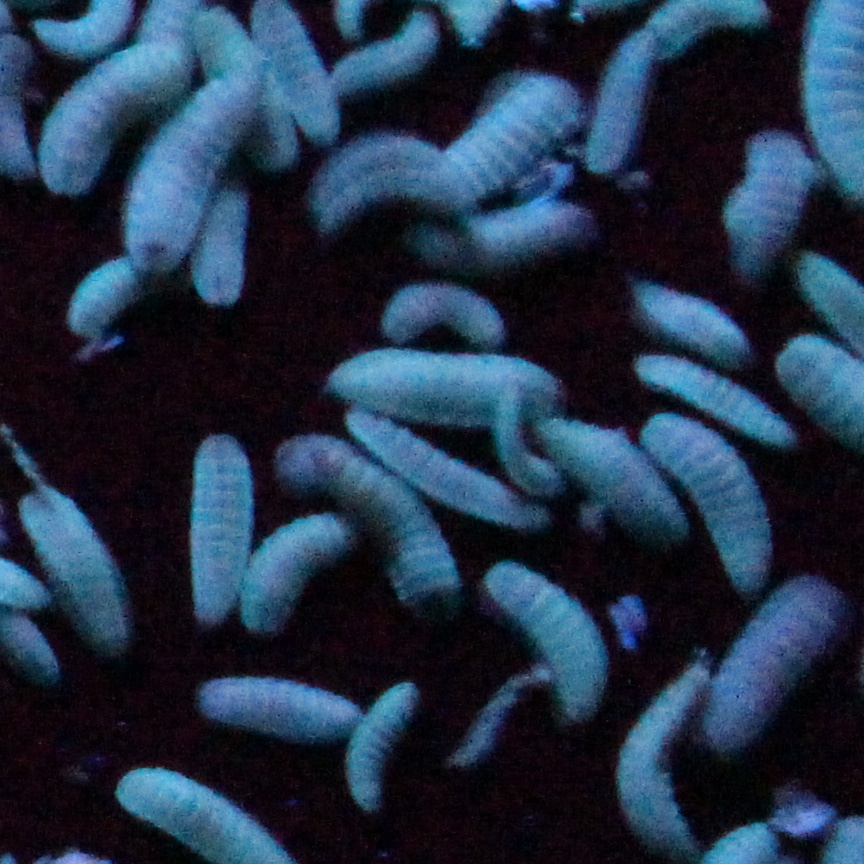larve: (307, 80, 576, 225), (276, 436, 474, 623), (341, 403, 569, 531), (643, 409, 790, 598), (129, 69, 260, 272), (36, 40, 185, 203), (18, 463, 143, 654), (609, 331, 801, 447), (487, 556, 618, 725), (709, 582, 843, 743), (187, 5, 310, 172), (543, 414, 690, 552), (318, 351, 565, 422), (621, 267, 761, 369), (240, 512, 354, 636), (389, 209, 600, 272), (725, 122, 807, 267), (183, 434, 249, 614), (190, 667, 361, 736), (336, 680, 423, 812), (185, 172, 261, 311), (54, 247, 161, 340), (325, 9, 447, 87), (381, 278, 516, 343), (589, 36, 656, 163)
